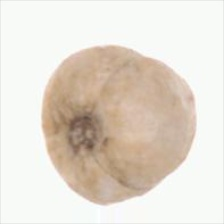L4: (41, 46, 196, 205)
